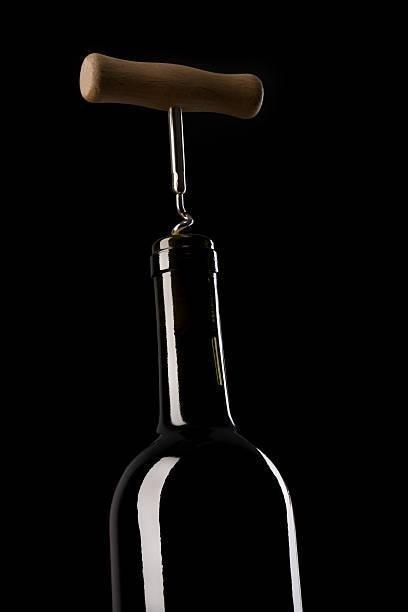bottle-glass: (103, 229, 313, 612)
